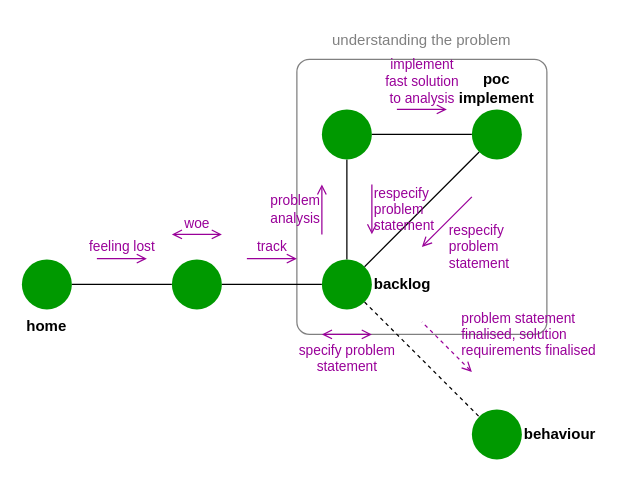
Some shapes in this 619 by 480 pixel diagram are drawn without their labels. Each missing label, with the centre of its shape:
item: point 196,284
poc design: point 346,134
